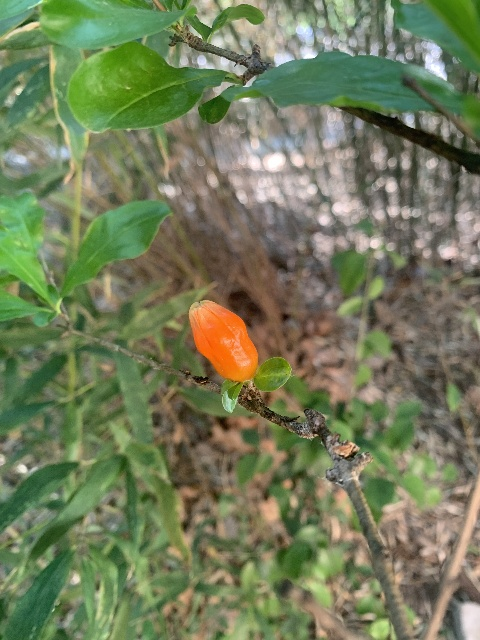bud: (189, 300, 257, 383)
